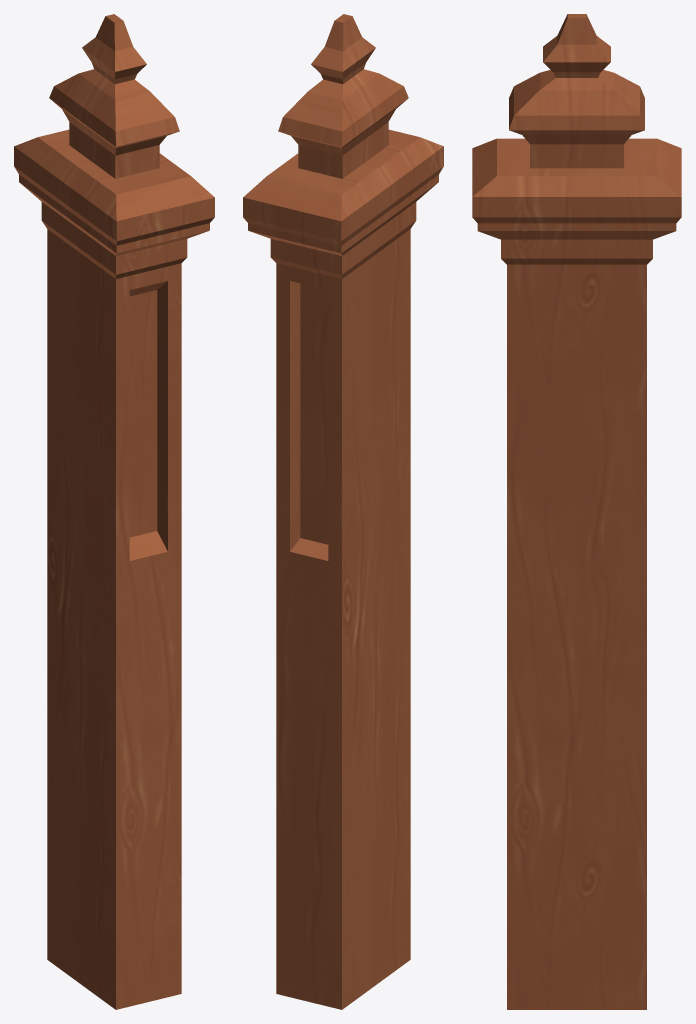
Rendered from StationFramePillar_A_004.fbx.
3 renders of one model, left to right at view 1: azimuth 30°, elevation 25°; view 2: azimuth 150°, elevation 25°; view 3: azimuth 270°, elevation 25°, orthographic.
Visible parts, largest first — view 1: StationFramePillar_A_004; view 2: StationFramePillar_A_004; view 3: StationFramePillar_A_004.
Boxes of the visible parts, left/top/right/bottom form: StationFramePillar_A_004: left=14, top=14, right=214, bottom=1009; StationFramePillar_A_004: left=243, top=14, right=443, bottom=1009; StationFramePillar_A_004: left=472, top=14, right=681, bottom=1009.
Bounding box in the file's own units: 17.82 × 166 × 32.21.
1 material, 1 textured.
